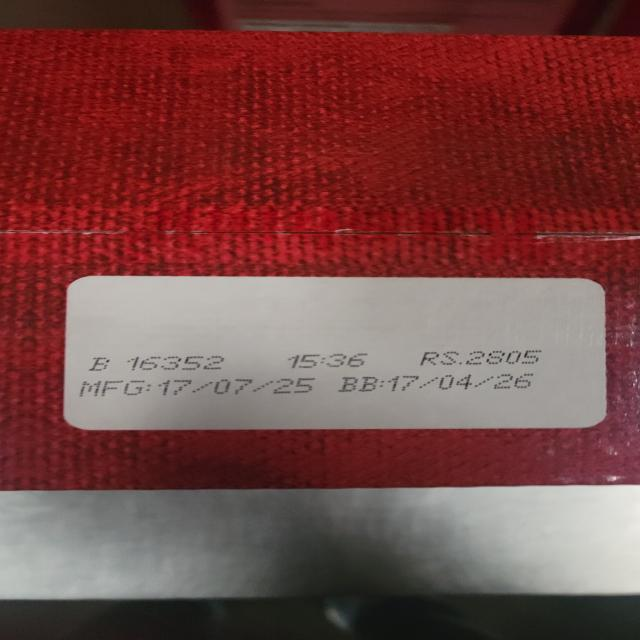BB: (340, 373, 540, 393)
Batch: (88, 356, 225, 371)
MFG: (84, 378, 314, 397)
RS: (417, 350, 545, 366)
TimeStamp: (286, 353, 370, 369)
